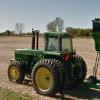Tractor: (11, 23, 93, 99)
